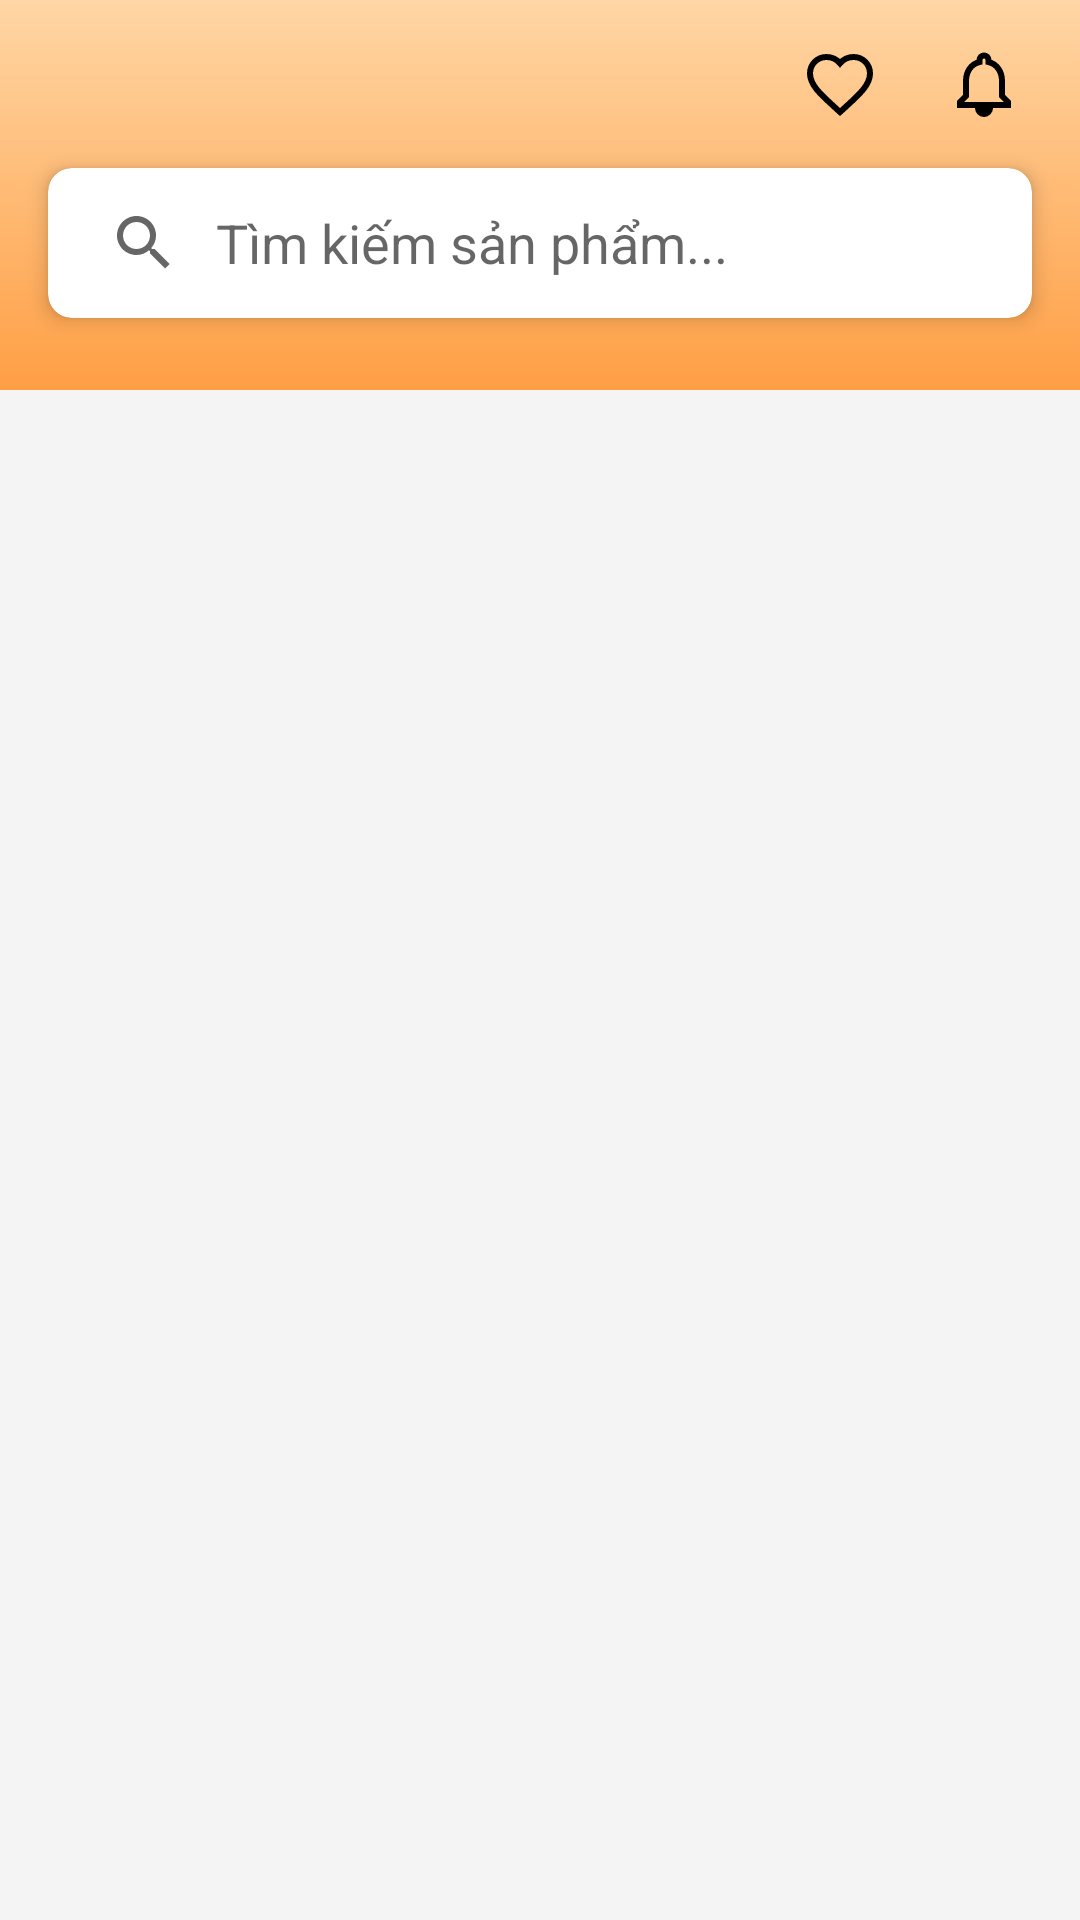

Named icons in this screenshot (1080x1920) and their centers, (x,y):
hearts: (840,84)
notification: (984,84)
